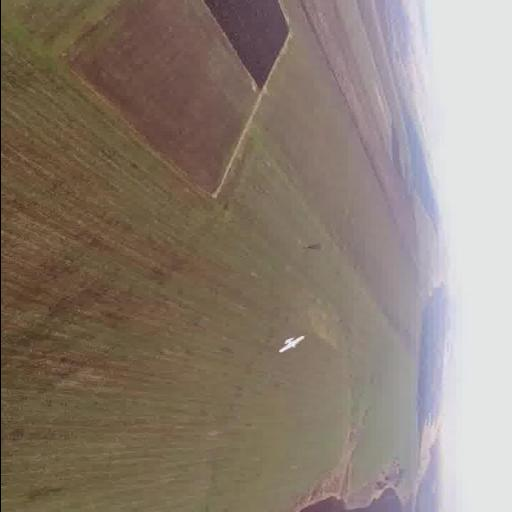uav: (272, 330, 314, 356)
